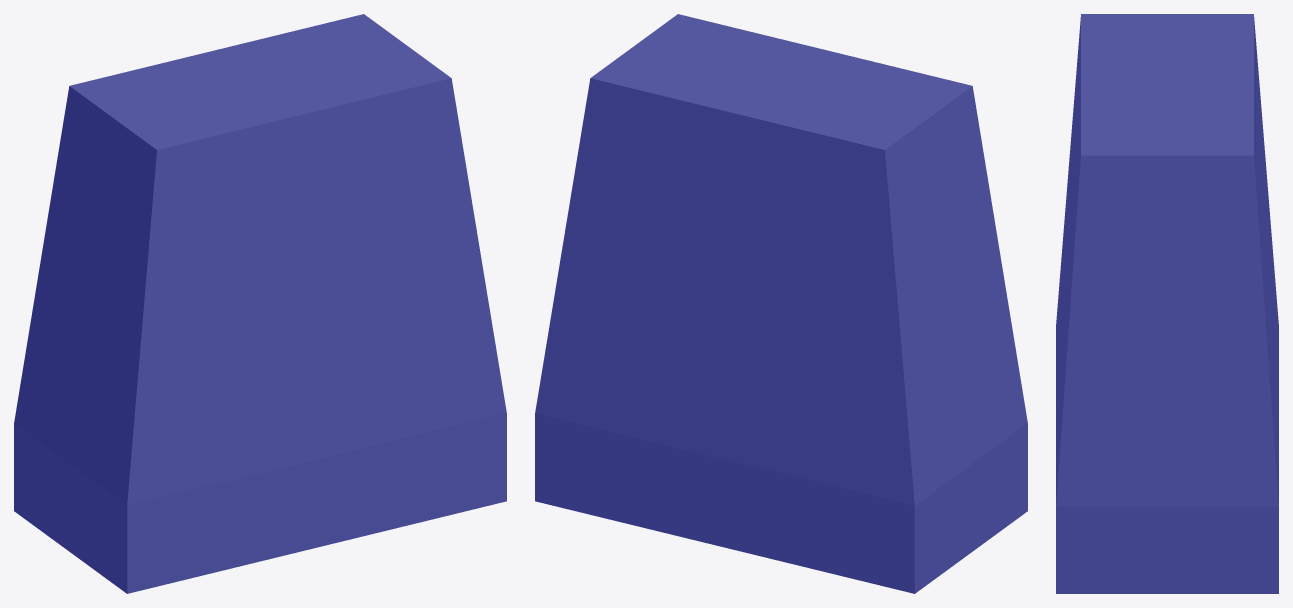
The picture shows the model from 3 angles, left to right: view 1: azimuth 30°, elevation 25°; view 2: azimuth 150°, elevation 25°; view 3: azimuth 270°, elevation 25°; orthographic projection.
Visible parts, largest first — view 1: building_0000000000000002; view 2: building_0000000000000002; view 3: building_0000000000000002.
Part boxes in pixels (<box>): building_0000000000000002: <box>14,14,506,593</box>; building_0000000000000002: <box>535,14,1027,593</box>; building_0000000000000002: <box>1056,14,1278,593</box>.
Bounding box in the file's own units: 344 × 367 × 178.
